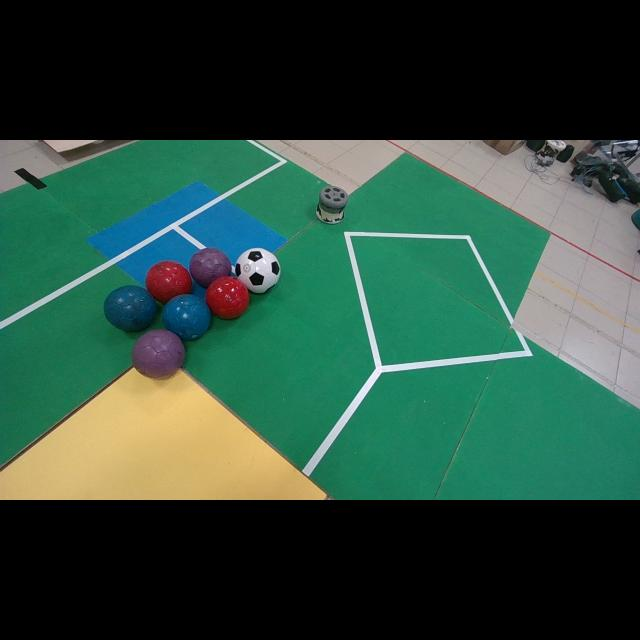B: (105, 285, 156, 331), (161, 295, 211, 340)
P: (131, 330, 185, 377), (189, 248, 231, 288)
R: (145, 260, 191, 304), (206, 276, 249, 319)
